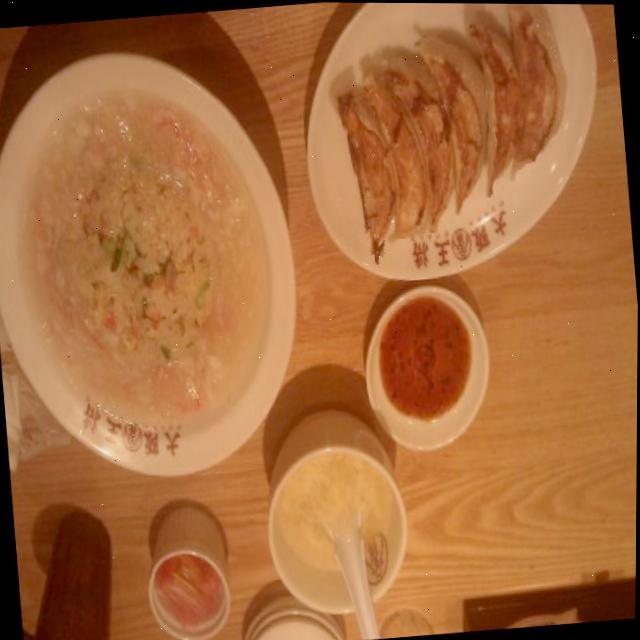带馅早点: (283, 2, 606, 312)
汤锅炖物: (256, 405, 420, 622)
米饭主食: (0, 34, 316, 492)
